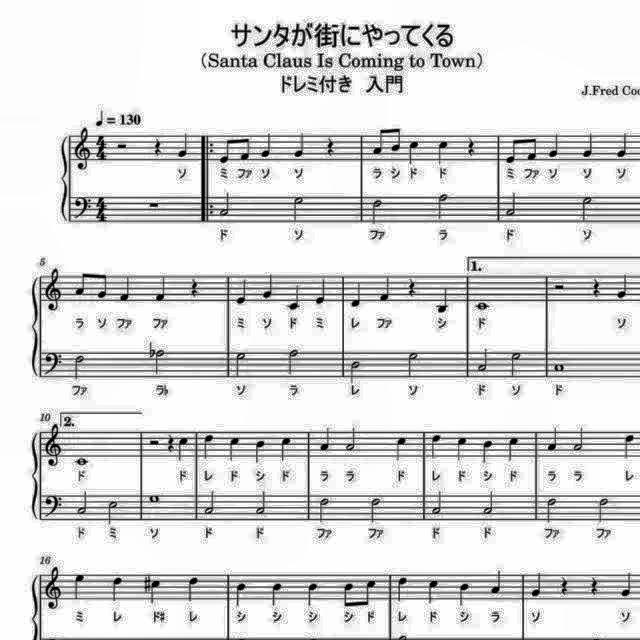Bass-clef: (44, 491, 68, 521), (42, 347, 64, 377), (71, 194, 93, 222)
Diez: (140, 572, 152, 596)
Eighth-note: (502, 133, 520, 165), (71, 266, 89, 298), (215, 134, 232, 166), (369, 124, 385, 158), (360, 576, 378, 606), (96, 269, 112, 301), (526, 132, 542, 164), (342, 578, 358, 608), (238, 133, 254, 163), (388, 124, 404, 154)
Full-note: (71, 454, 91, 470), (553, 358, 569, 374), (472, 300, 490, 314), (146, 491, 162, 505)
Full-rest: (144, 199, 162, 213)
Half-note: (508, 348, 526, 379), (541, 496, 559, 526), (71, 351, 89, 381), (152, 346, 170, 376), (233, 348, 250, 378), (216, 190, 234, 218), (428, 488, 446, 516), (406, 348, 422, 379), (316, 495, 332, 525), (284, 345, 300, 375), (256, 487, 272, 517), (434, 192, 450, 222), (578, 194, 594, 224), (594, 494, 610, 524), (290, 194, 306, 224), (366, 496, 382, 526), (344, 425, 360, 455), (74, 488, 90, 516), (347, 356, 363, 384), (368, 198, 384, 226), (104, 498, 120, 526), (203, 488, 219, 516), (476, 345, 492, 373), (482, 488, 498, 516), (570, 426, 586, 454), (505, 192, 521, 218)
Half-rest: (113, 136, 131, 154), (147, 434, 163, 450), (552, 280, 568, 292)
Quarter-note: (620, 431, 640, 462), (377, 273, 395, 305), (183, 574, 201, 606), (284, 280, 302, 312), (118, 273, 136, 305), (233, 276, 250, 308), (453, 435, 471, 465), (200, 433, 218, 463), (227, 434, 245, 464), (619, 570, 637, 600), (392, 434, 410, 464), (505, 434, 523, 464), (528, 569, 546, 599), (615, 271, 633, 301), (435, 287, 453, 317), (423, 577, 441, 607), (72, 571, 88, 603), (580, 130, 596, 162), (616, 128, 632, 160), (108, 574, 124, 606), (152, 272, 168, 304), (348, 278, 364, 310), (312, 275, 328, 307), (148, 574, 164, 606), (394, 574, 411, 604), (305, 580, 323, 608), (278, 435, 294, 465), (428, 432, 444, 462), (290, 130, 306, 160), (262, 271, 278, 301), (547, 130, 563, 160), (488, 568, 504, 598), (260, 129, 276, 159), (175, 129, 191, 159), (233, 580, 250, 608), (479, 438, 496, 466), (252, 438, 268, 466), (546, 426, 562, 454), (456, 580, 472, 608), (317, 426, 333, 454), (436, 137, 452, 165), (407, 139, 423, 167), (176, 435, 190, 465), (270, 580, 286, 606)
Quarter-rest: (556, 574, 572, 598), (404, 274, 420, 298), (586, 574, 602, 598), (588, 274, 604, 298), (186, 274, 200, 300), (323, 134, 337, 158), (464, 134, 478, 158), (150, 134, 164, 158), (165, 433, 179, 455)
Treble-clef: (44, 266, 68, 314), (44, 563, 68, 611), (45, 421, 67, 467), (72, 124, 92, 172)
